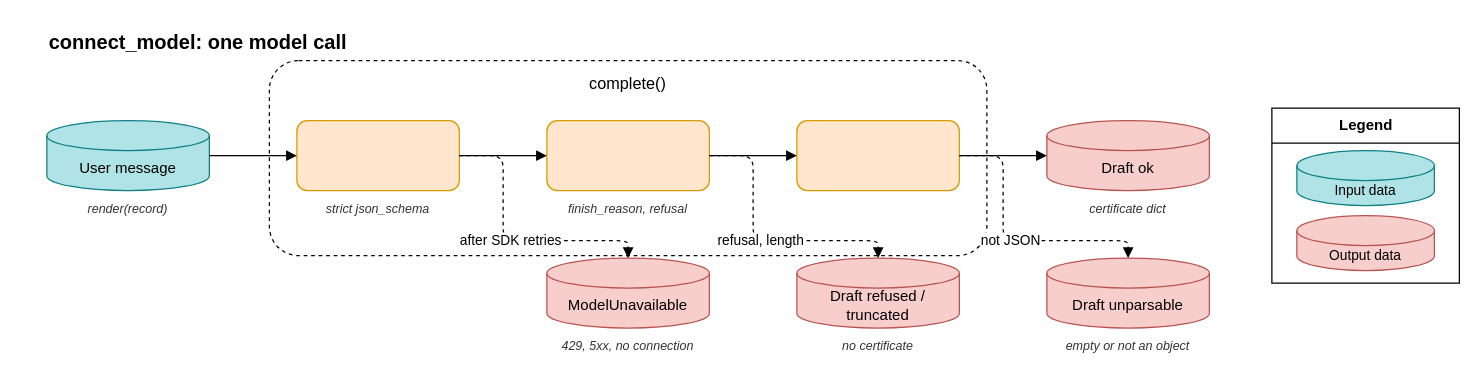
This 1481x389 diagram has some shape labels left out. Each missing label, with the centre of its shape:
"Parse the JSON" goes at point (877, 155).
"Read the reply" goes at point (627, 155).
"Send the request" goes at point (377, 155).
